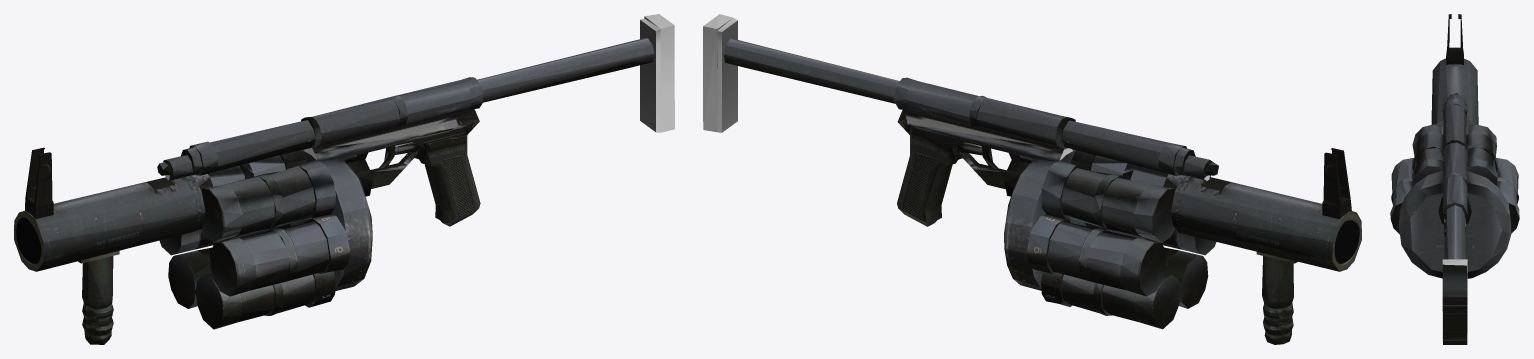
The model's file is w_bulldog.obj.
3 renders of one model, left to right at view 1: azimuth 30°, elevation 25°; view 2: azimuth 150°, elevation 25°; view 3: azimuth 270°, elevation 25°, orthographic. The views are drawn at different scales.
Visible parts, largest first — view 1: Cylinder_Cylinder.001; view 2: Cylinder_Cylinder.001; view 3: Cylinder_Cylinder.001.
Part boxes in pixels (x1=…): Cylinder_Cylinder.001: x1=14, y1=14, x2=674, y2=344; Cylinder_Cylinder.001: x1=703, y1=14, x2=1361, y2=344; Cylinder_Cylinder.001: x1=1390, y1=14, x2=1519, y2=344.
Bounding box in the file's own units: 9.24 × 2.83 × 2.12.
